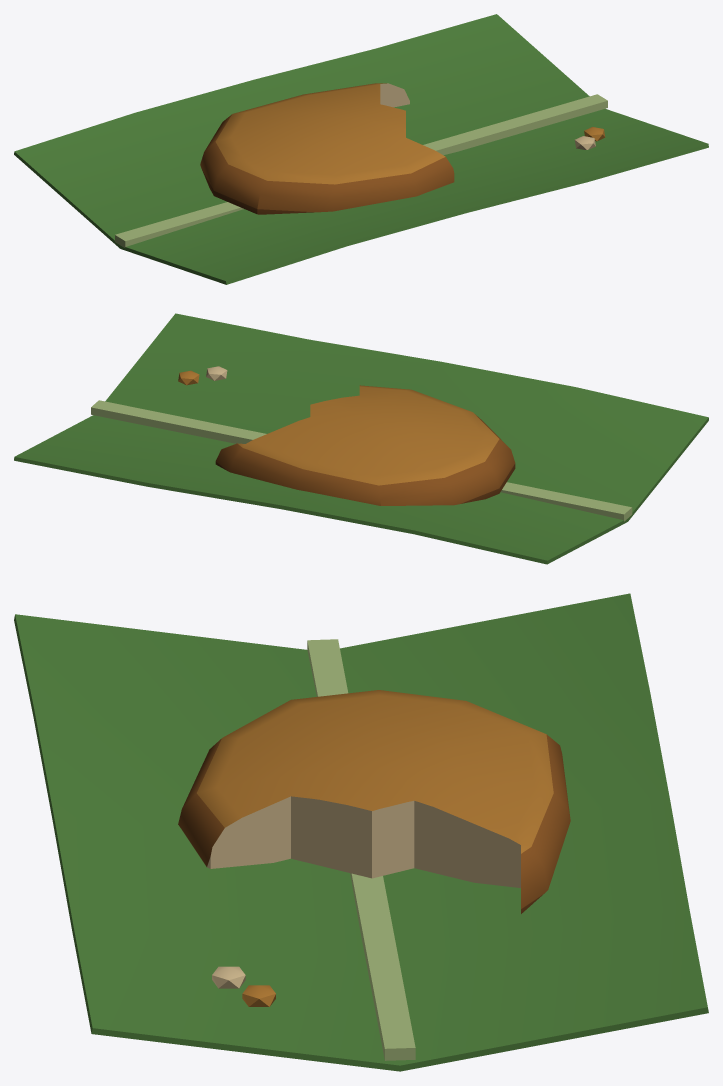
File: cha_ca__an_do.glb
The picture shows the model from 3 angles, top to bottom: view 1: azimuth 30°, elevation 25°; view 2: azimuth 150°, elevation 25°; view 3: azimuth 270°, elevation 25°; orthographic projection. The views are drawn at different scales.
Visible parts, largest first — view 1: cha_ca__an_do; view 2: cha_ca__an_do; view 3: cha_ca__an_do.
Boxes of the visible parts, x1,y1,x2,y2 form: cha_ca__an_do: (14, 14, 708, 284); cha_ca__an_do: (14, 313, 708, 564); cha_ca__an_do: (14, 593, 708, 1071).
Size of the model in its own units: 0.2305 by 0.0249 by 0.1576.
